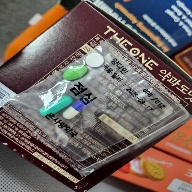러키펜정: (84, 53, 104, 69)
씨엠지세파클러캡슐: (62, 97, 91, 120)
에르도캡슐: (39, 96, 73, 117)
휴티렌정: (63, 66, 88, 81)
